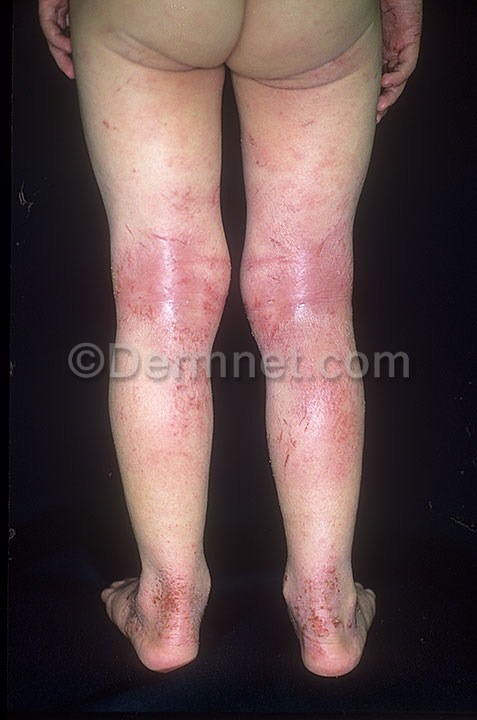Eczema: (84, 41, 229, 667), (244, 63, 389, 667)
